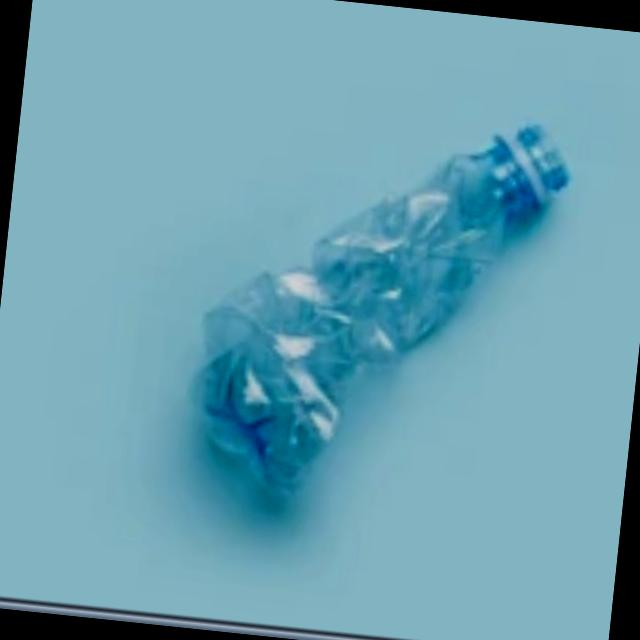Plastic: (109, 24, 588, 574)
